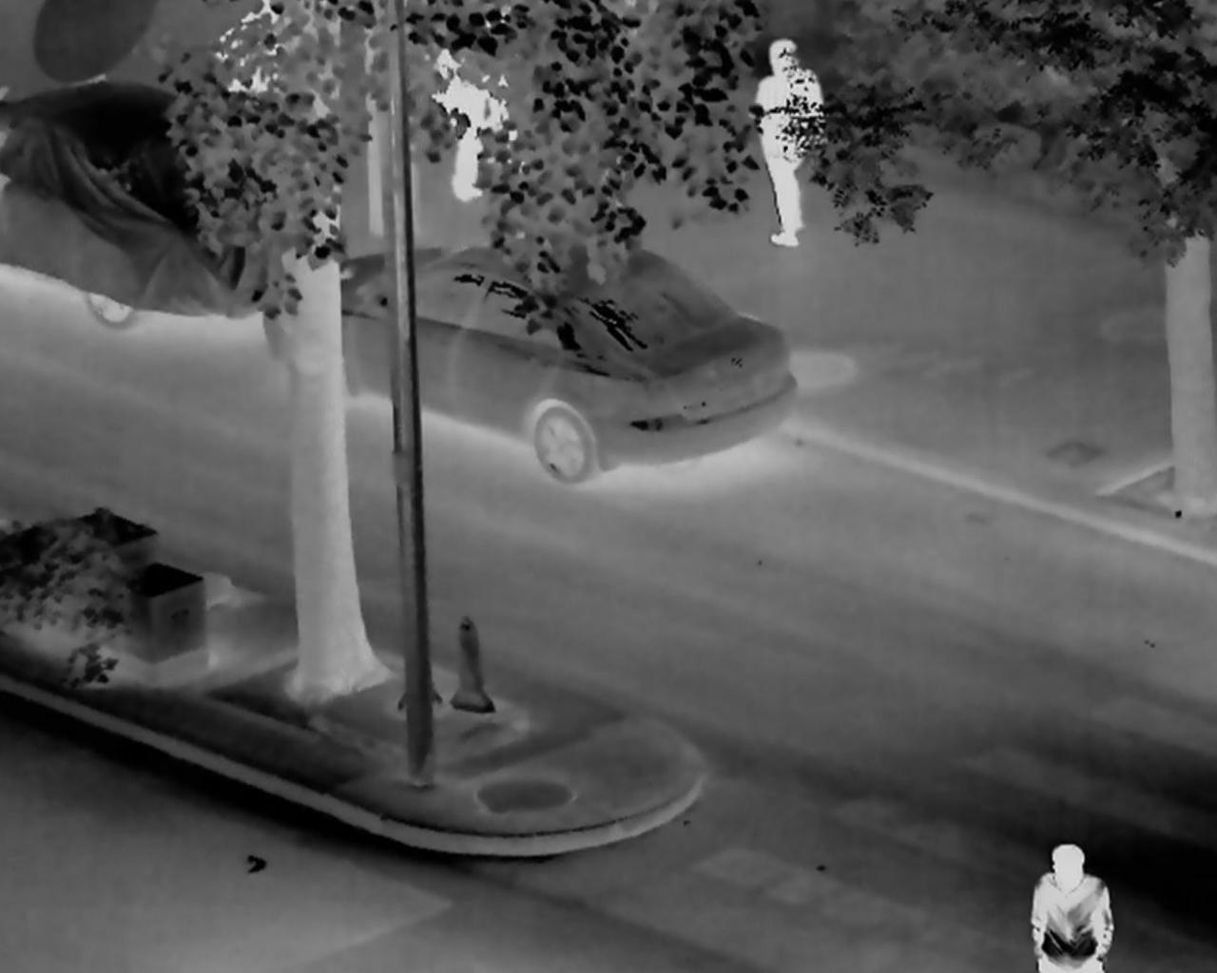person: (750, 39, 824, 246), (432, 16, 493, 206), (1031, 844, 1116, 973)
